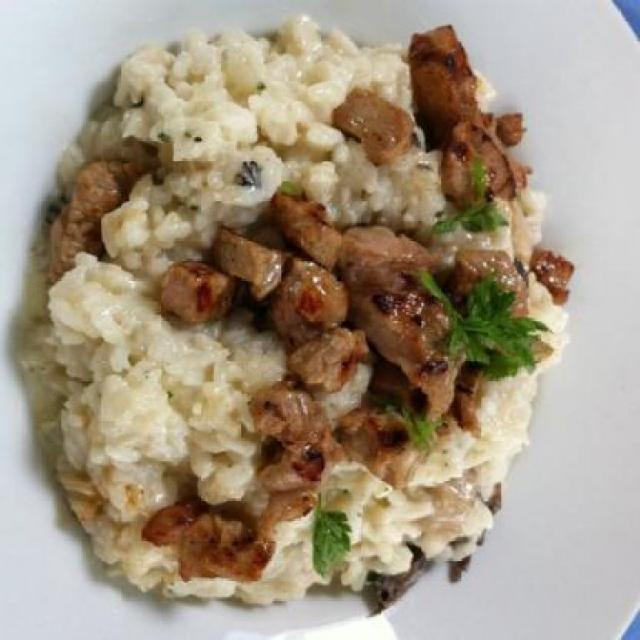Risotto: (32, 27, 565, 596)
